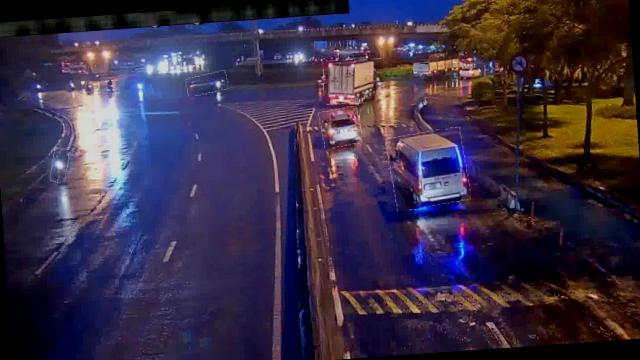Bike: (50, 148, 70, 182)
Bus: (386, 128, 470, 210)
Car: (319, 105, 362, 148), (186, 70, 228, 94)
Truck: (322, 57, 384, 106)
